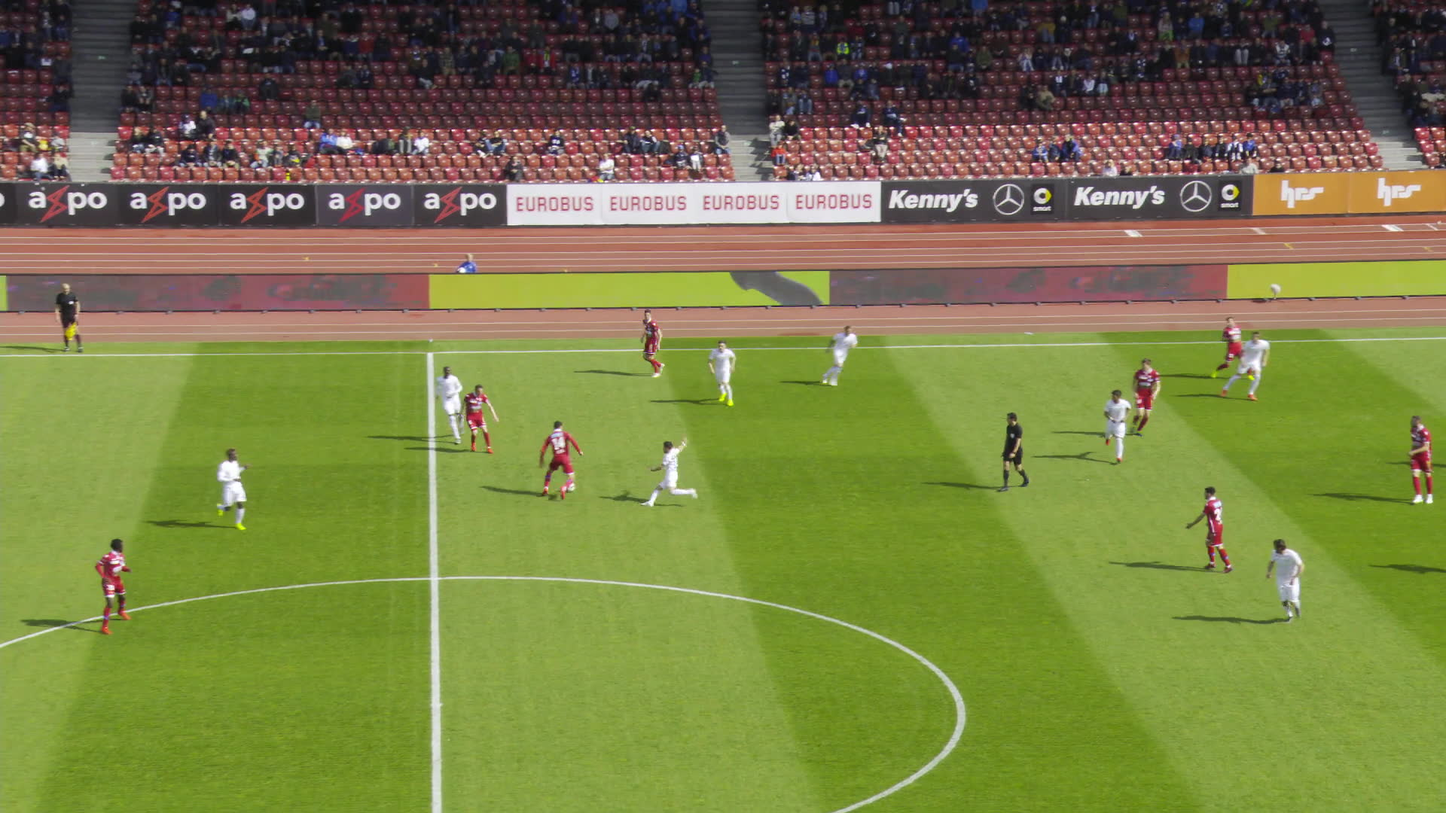ball: (566, 483, 576, 492)
player: (1187, 485, 1233, 574), (643, 438, 696, 509), (97, 537, 136, 629), (538, 424, 581, 504), (1268, 537, 1304, 629), (1226, 333, 1269, 402), (216, 446, 251, 529), (1129, 355, 1163, 440), (456, 385, 497, 454), (433, 368, 467, 442), (1214, 313, 1249, 380), (1406, 416, 1433, 502), (637, 309, 670, 379), (821, 326, 856, 388), (1103, 389, 1131, 461), (708, 342, 737, 407)
referee: (997, 412, 1030, 492), (55, 283, 84, 354)
